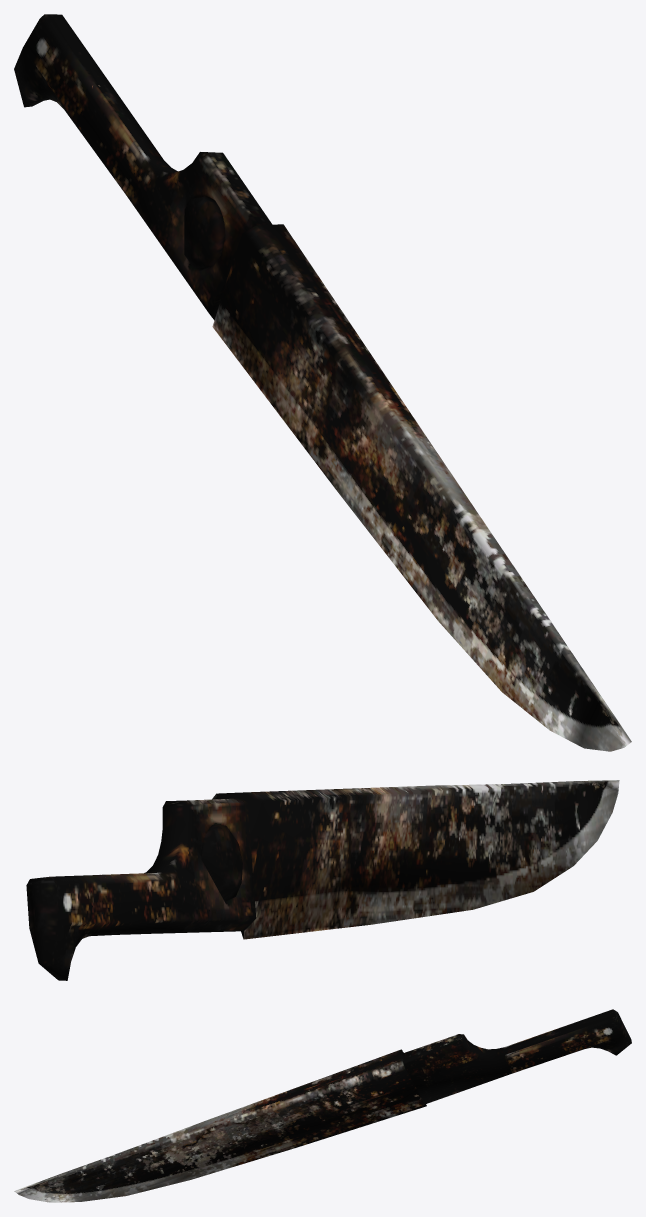
The model's file is knife3.glb.
3 renders of one model, top to bottom at view 1: azimuth 30°, elevation 25°; view 2: azimuth 150°, elevation 25°; view 3: azimuth 270°, elevation 25°, orthographic. The views are drawn at different scales.
Parts seen in each view (by area): view 1: pyramid head; view 2: pyramid head; view 3: pyramid head.
Boxes of the visible parts, x1,y1,x2,y2 form: pyramid head: (14,14,631,751); pyramid head: (26,780,619,980); pyramid head: (14,1009,631,1202).
Bounding box in the file's own units: 0.107 × 0.5354 × 1.57.
1 material, 1 textured.
